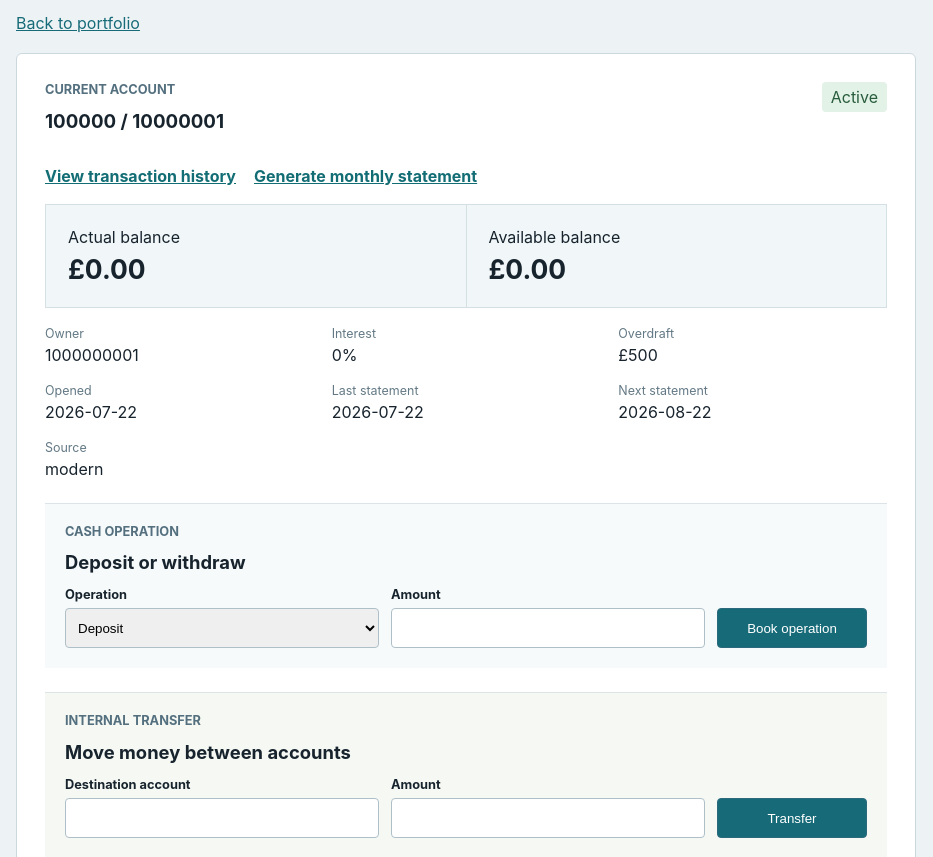
it: AccountDetailComponent › books cash and reloads the account with the resulting balance
Select "Deposit" in the dropdown named "direction" at (222, 628), box [65,608,379,648]
Type "125" into the number field named "amount" at (548, 628), box [391,608,705,648]
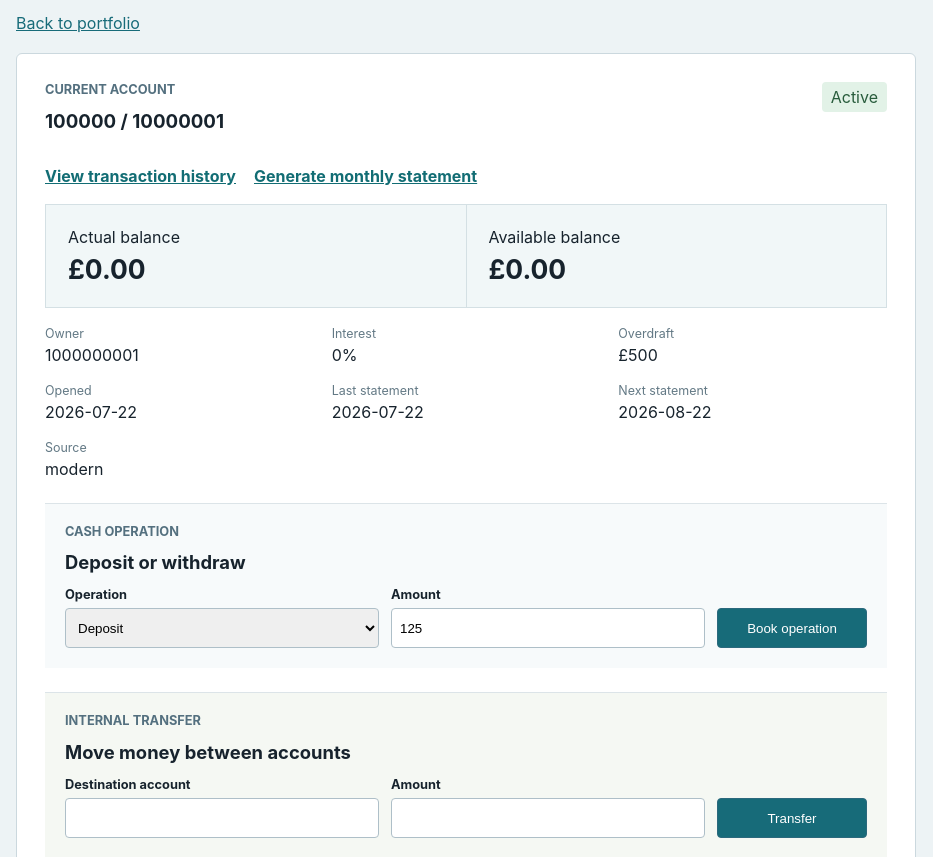
Submit the form "Operation Amount Book operation", box [65,587,867,648]
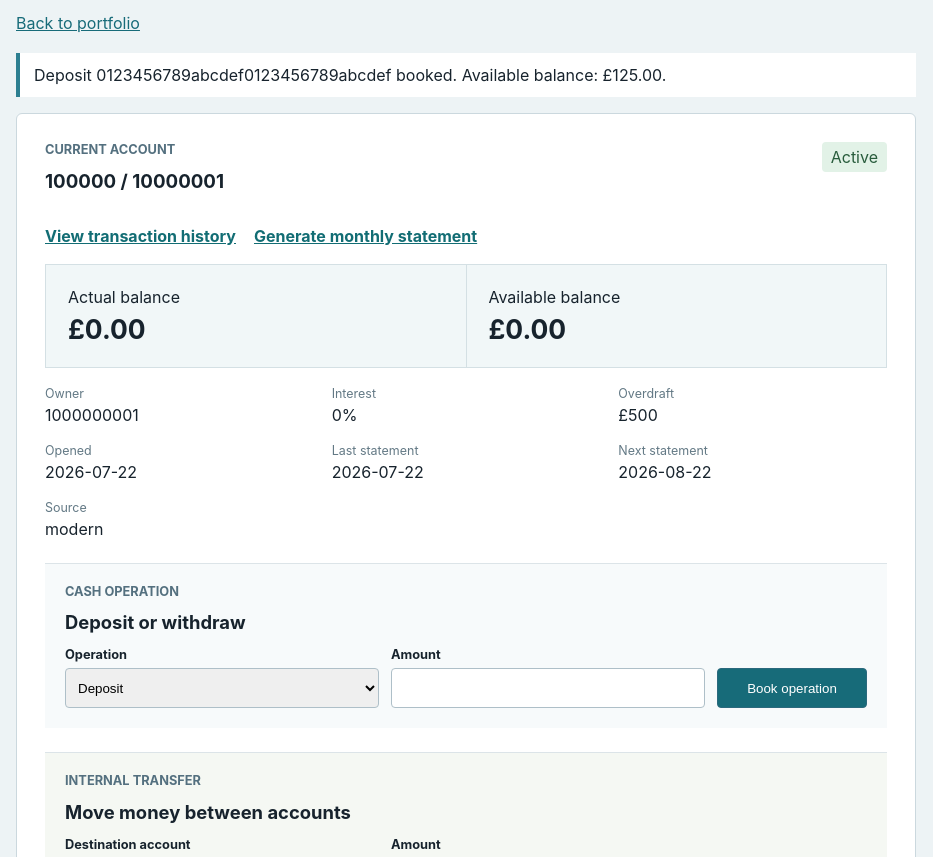
Result: the message "Deposit 0123456789abcdef0123456789abcdef booked. Available balance: £125.00." is shown at [16,53,916,97]
